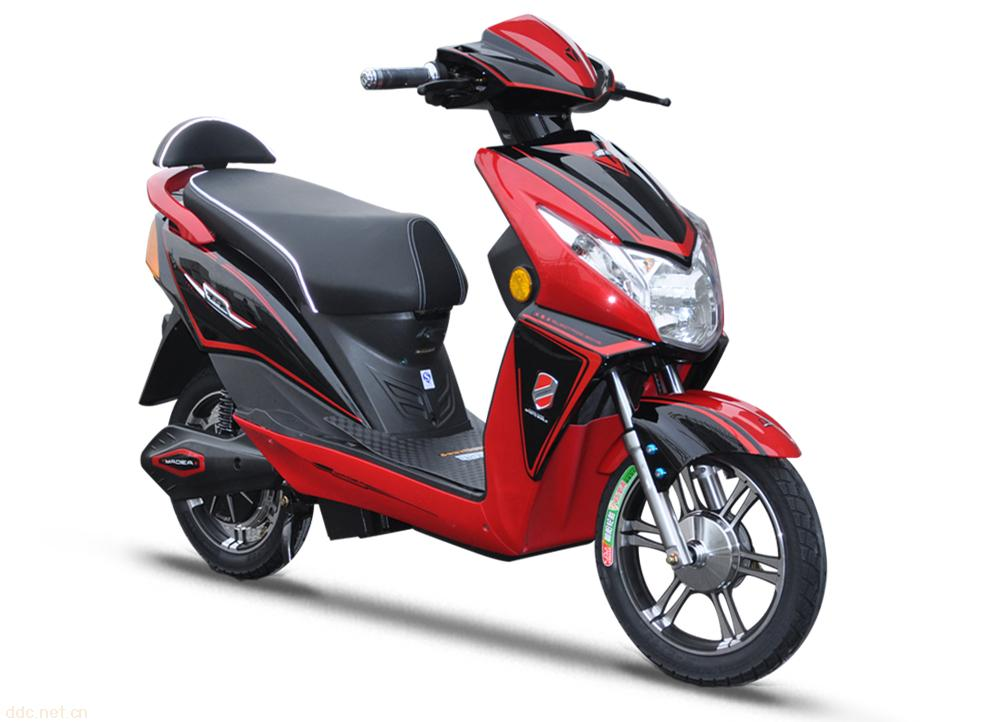MNV: (138, 14, 827, 688)
